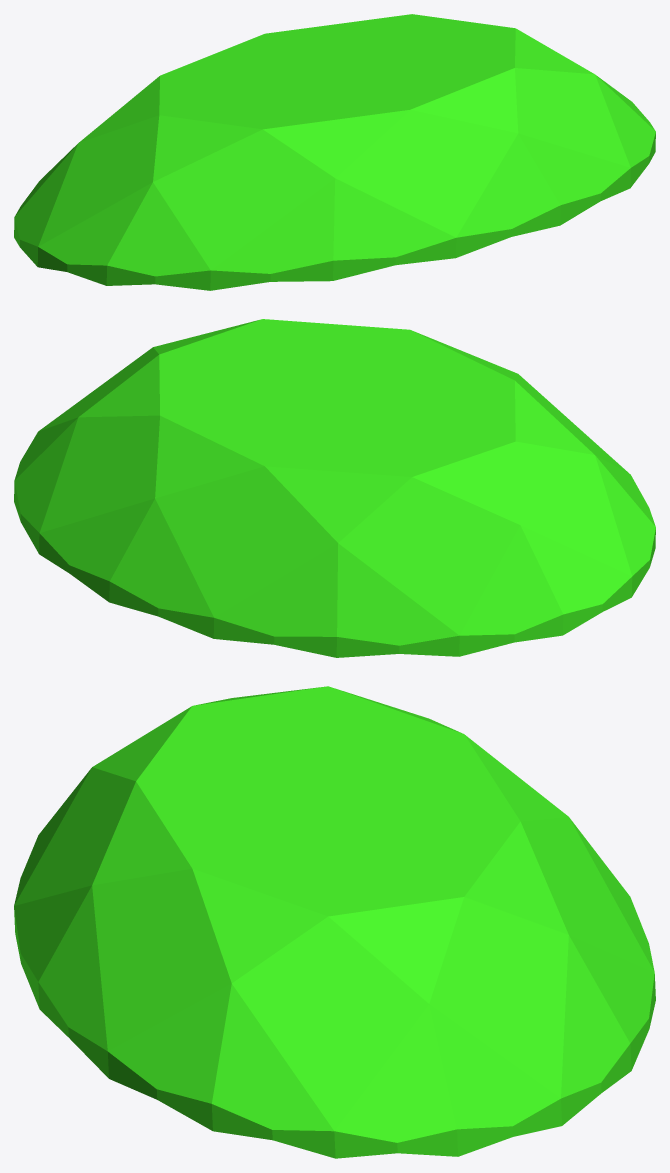
File: emerald (1).fbx
3 views of the same model, one above another, from view 1: azimuth 30°, elevation 25°; view 2: azimuth 150°, elevation 25°; view 3: azimuth 270°, elevation 25° (orthographic). The views are drawn at different scales.
Visible parts, largest first — view 1: 123; view 2: 123; view 3: 123.
Part boxes in pixels (left/top/right/bottom): 123: left=14, top=14, right=655, bottom=290; 123: left=14, top=319, right=655, bottom=657; 123: left=14, top=686, right=655, bottom=1158.
Bounding box in the file's own units: 40.87 × 10.87 × 28.9.
